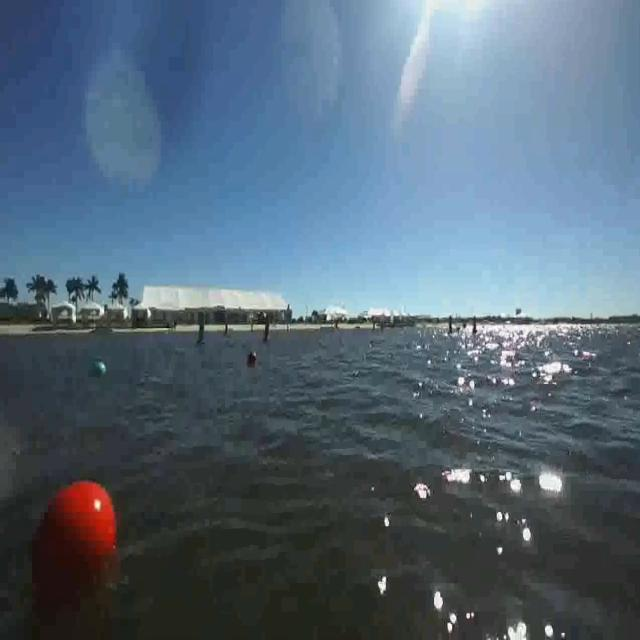black-buoy: (246, 348, 259, 368)
green-buoy: (89, 360, 108, 376)
green-column-buoy: (196, 314, 209, 347)
red-buoy: (27, 468, 124, 570)
red-column-buoy: (264, 319, 273, 342)
